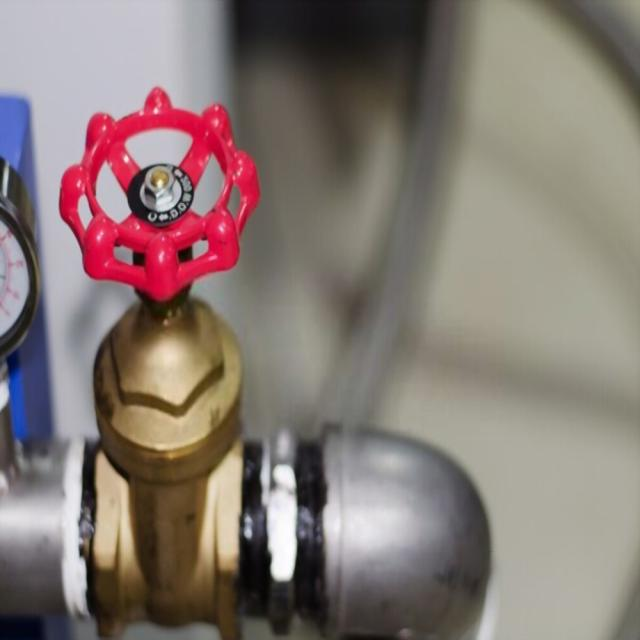Wheel Handle Valve Threaded: (58, 84, 257, 627)
